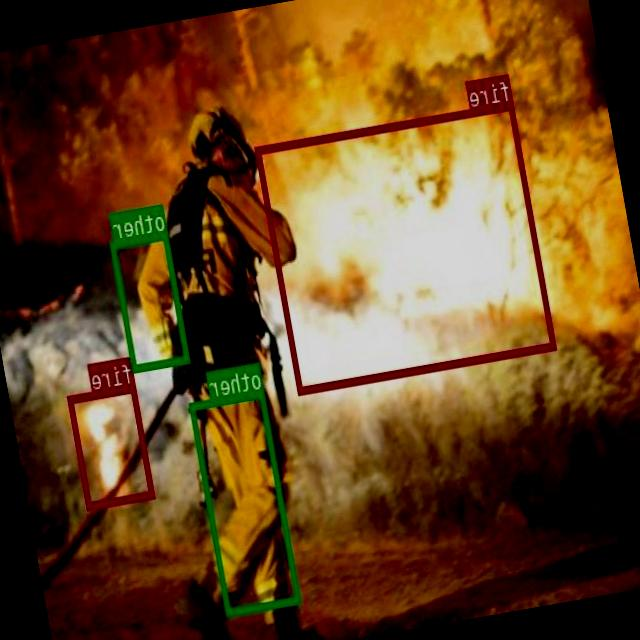fire: (255, 100, 558, 393), (68, 382, 156, 508)
